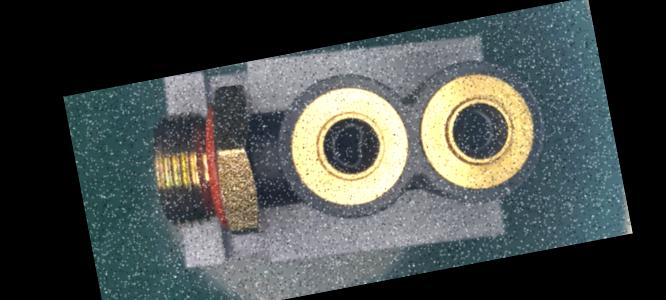off-centered: (319, 113, 377, 181), (446, 101, 503, 162)
